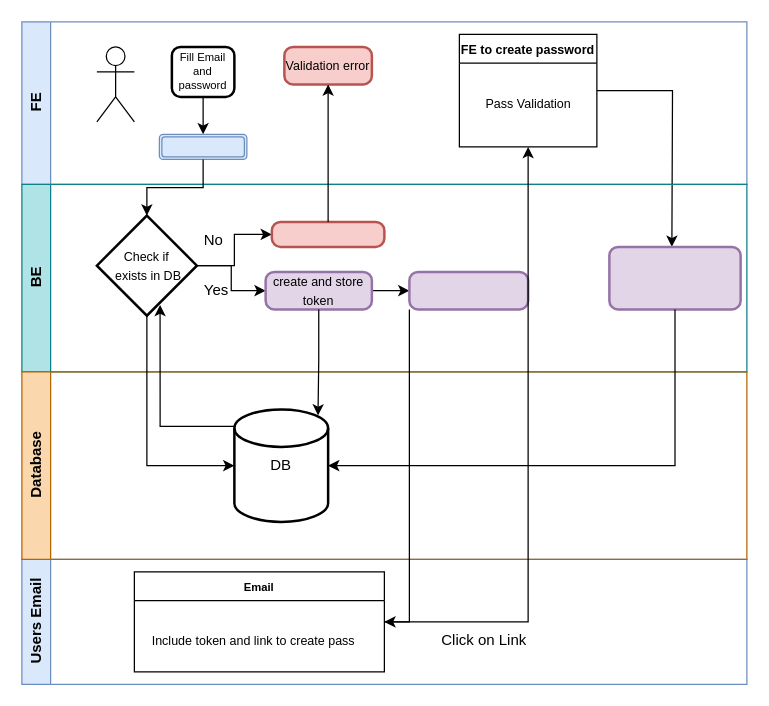
Image size: 769x706. Some labels were removed from this diagram. The shapes that lost their labels are listed below. From the top down, each one's centre as x and y in pixels, then its label:
At (115,84): "User".
At (202,146): "CAPTCHA".
At (327,234): "t hrow an erro r".
At (468,290): "Send email using Sendgrid".
At (674,277): "1. Check token Validity 2. Hash Password 3. Store Password".
